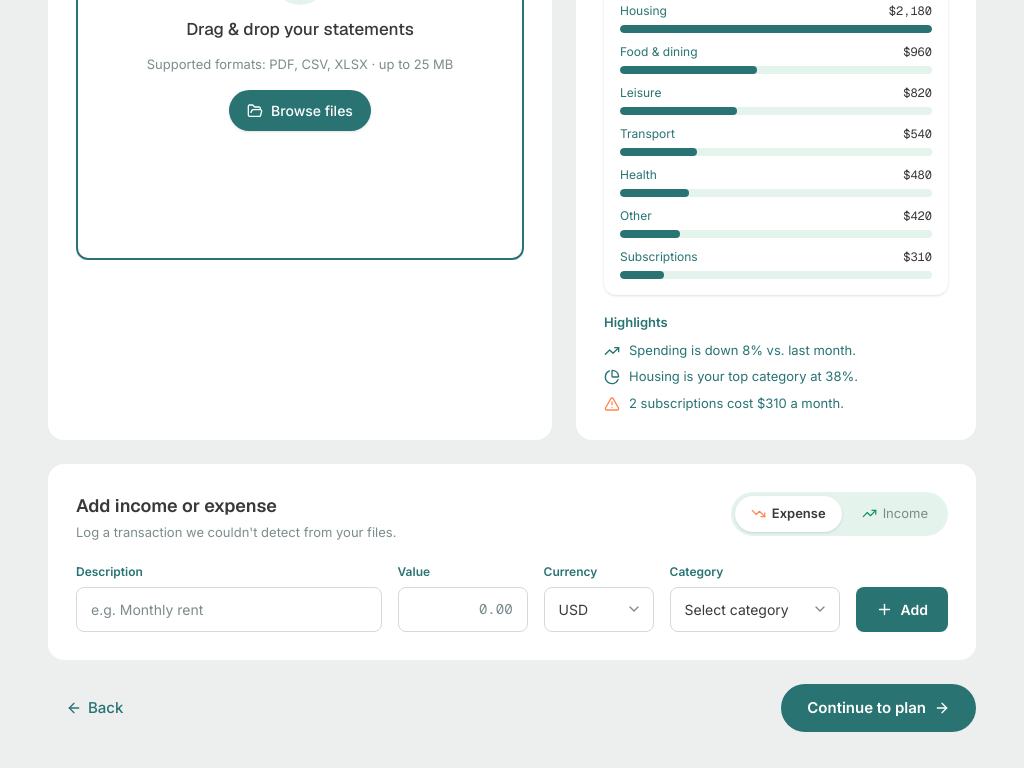
Test: adding a transaction › shows it under Recently added, with a signed amount
(page scrolled)
Click the radio button labelled "Income" at (895, 513), box [862,505,928,521]
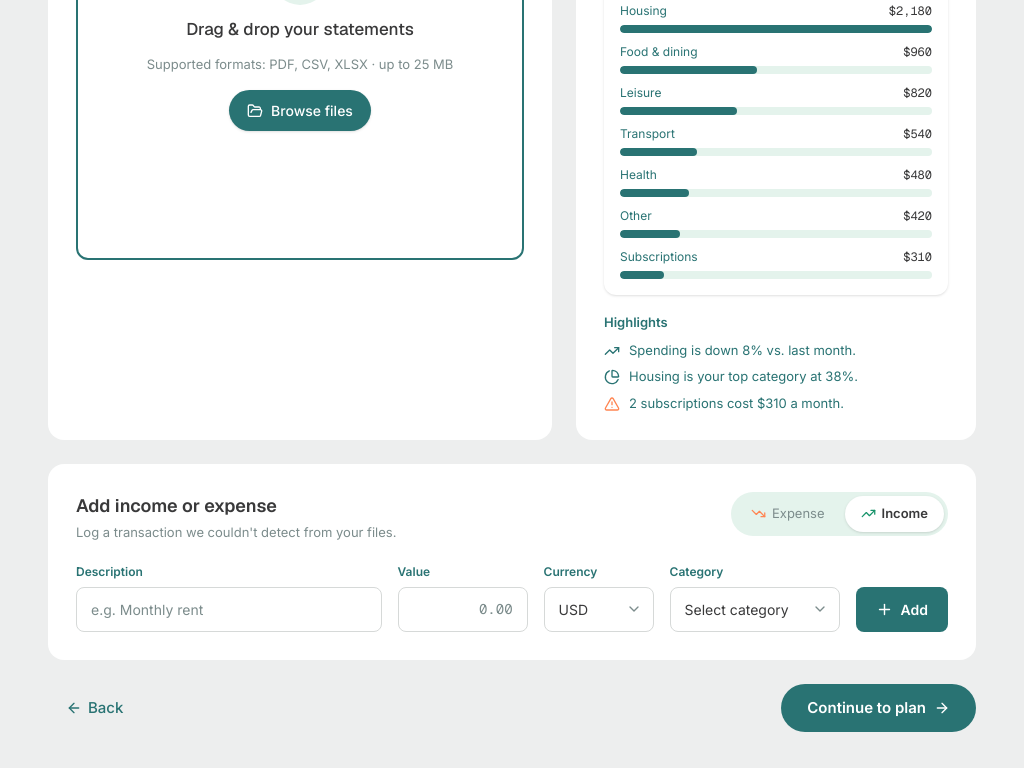
Type "Freelance project" into the field labelled "Description" at (229, 609), box [76,587,382,632]
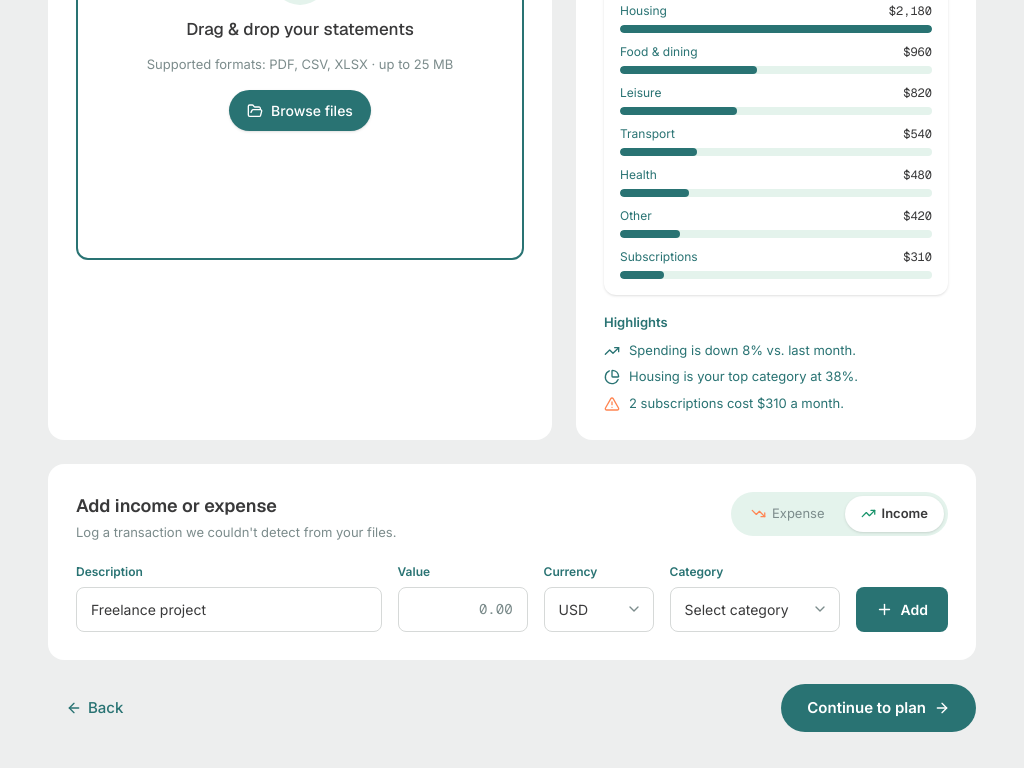
Type "1200" into the field labelled "Value" at (462, 609), box [398,587,528,632]
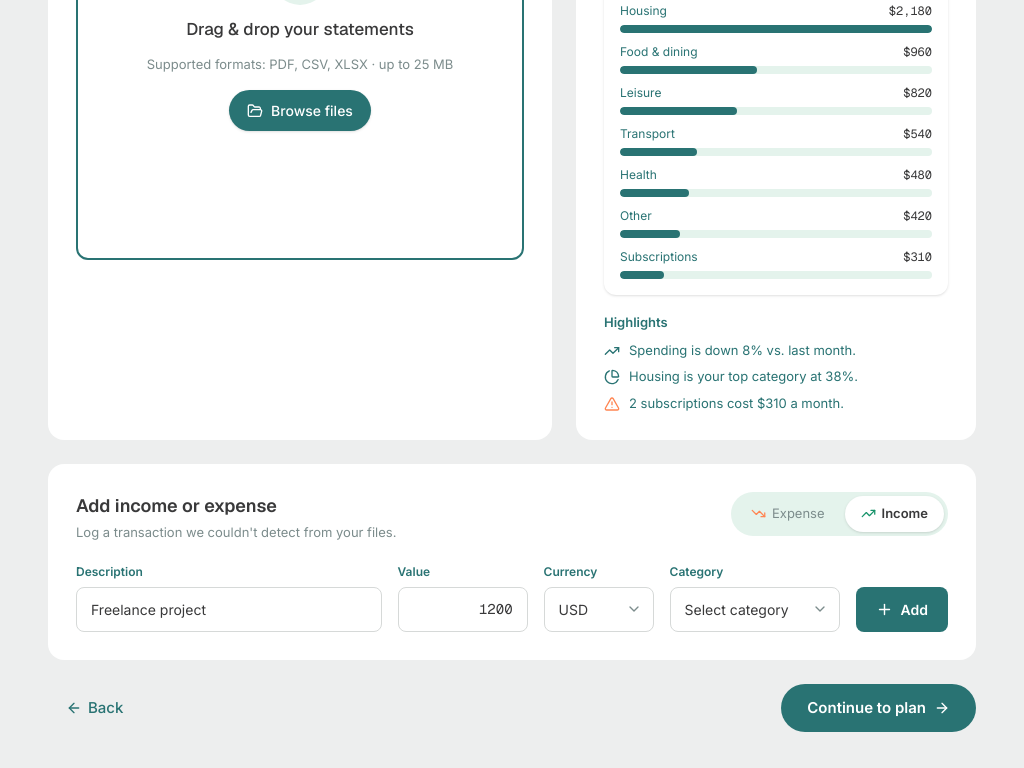
Select "Food & dining" in the dropdown labelled "Category" at (754, 609), box [670,587,840,632]
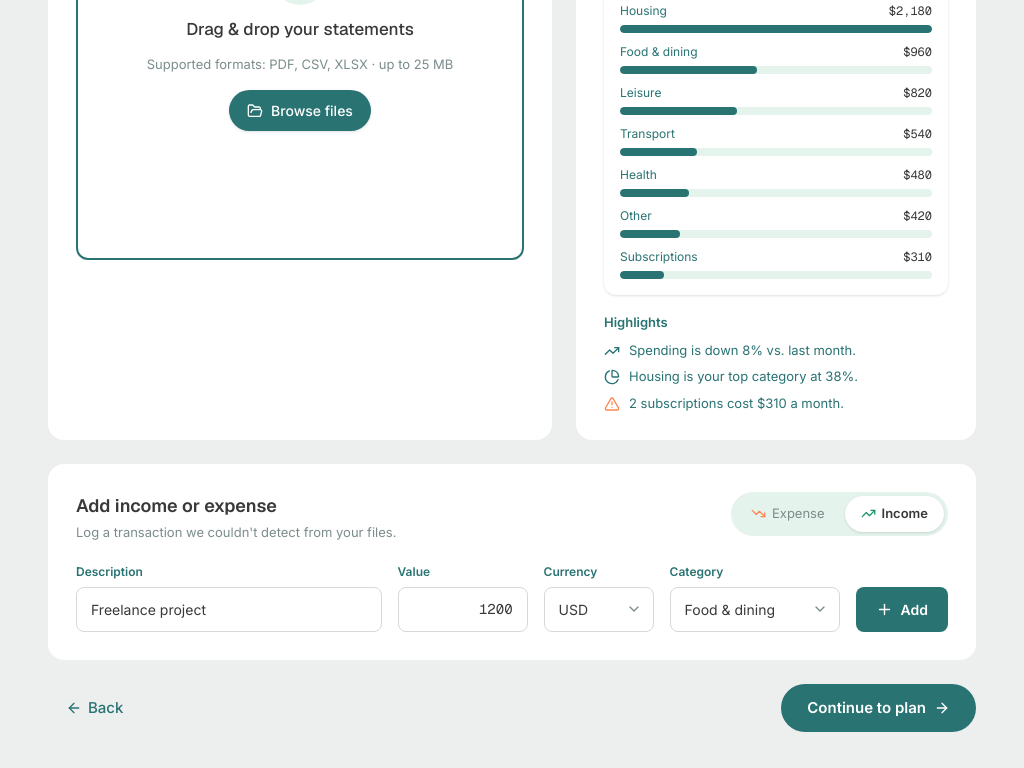
Click the button "Add" at (902, 609), box [856,587,948,632]
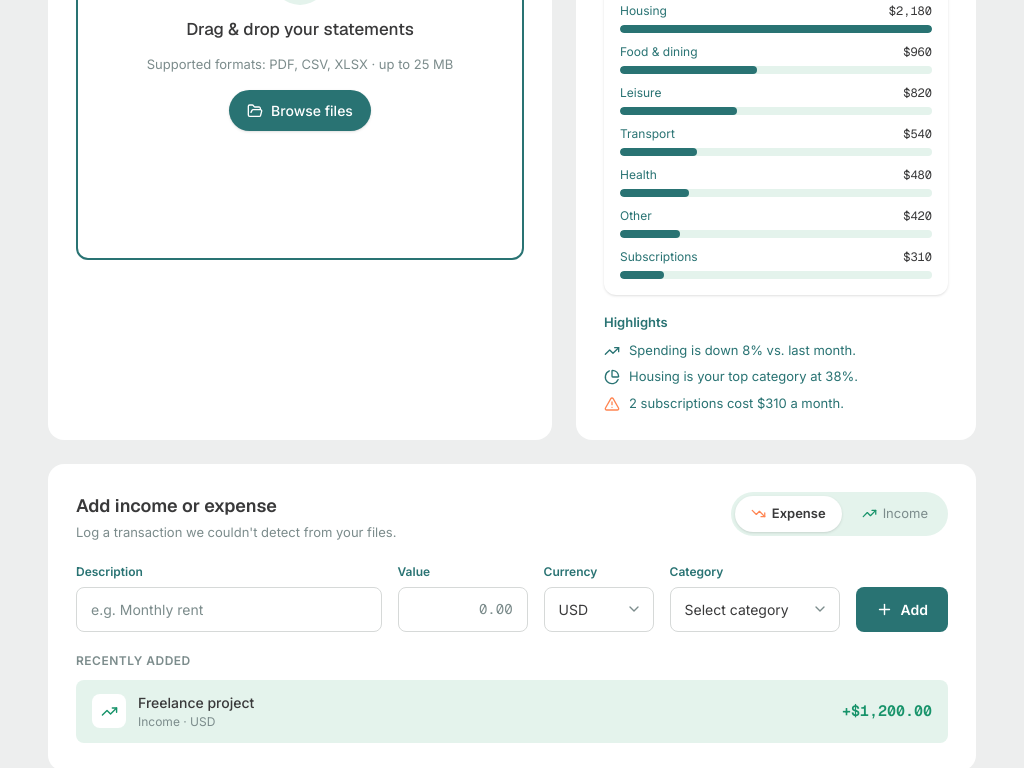
expect the text "Freelance project" is shown: met, box [138,692,254,713]
expect the text "+$1,200.00" is shown: met, box [842,700,932,722]
expect the text "Income · USD" is shown: met, box [138,714,215,729]
